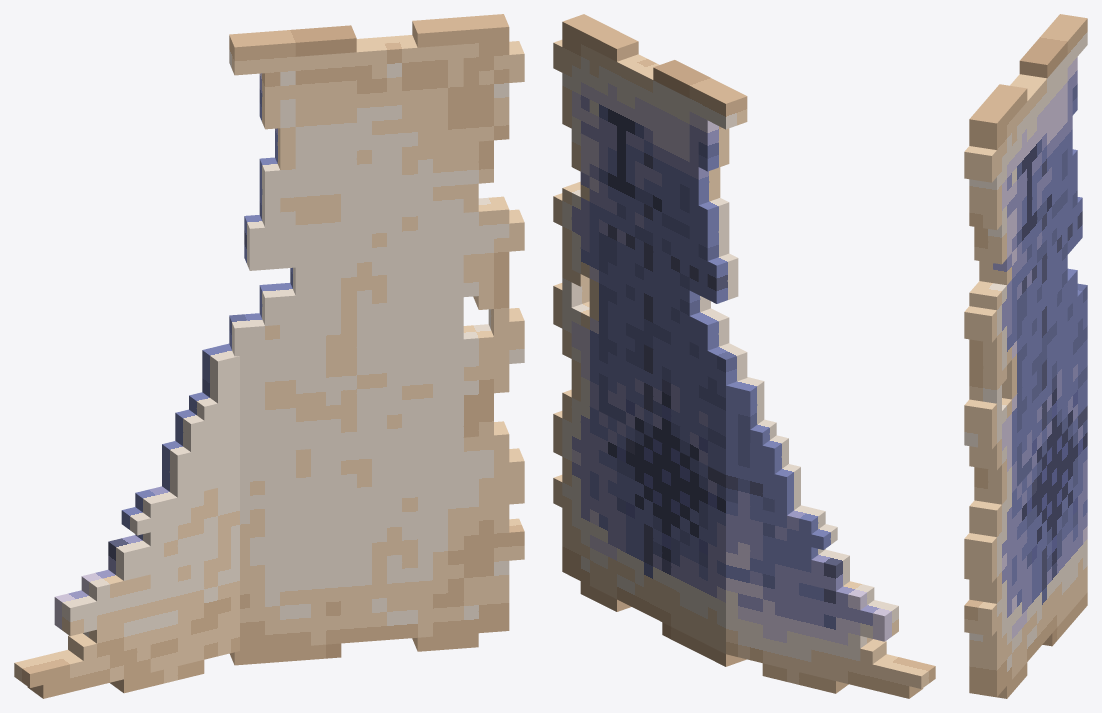
Rendered from lost_page_01A_I.gltf.
3 views of the same model, side by side, from view 1: azimuth 30°, elevation 25°; view 2: azimuth 150°, elevation 25°; view 3: azimuth 270°, elevation 25° (orthographic). The views are drawn at different scales.
Visible parts, largest first — view 1: MapRight$$(2)-Local, MapCenter$$(2)-Local; view 2: MapRight$$(2)-Local, MapCenter$$(2)-Local; view 3: MapRight$$(2)-Local.
Part boxes in pixels (x1=…): MapRight$$(2)-Local: x1=229, y1=14, x2=524, y2=665; MapCenter$$(2)-Local: x1=14, y1=343, x2=239, y2=698; MapRight$$(2)-Local: x1=553, y1=14, x2=747, y2=666; MapCenter$$(2)-Local: x1=726, y1=377, x2=935, y2=698; MapRight$$(2)-Local: x1=964, y1=14, x2=1087, y2=698.
Size of the model in its own units: 33.85 by 44 by 8.38.
Materials: 2 (2 with a texture image).
